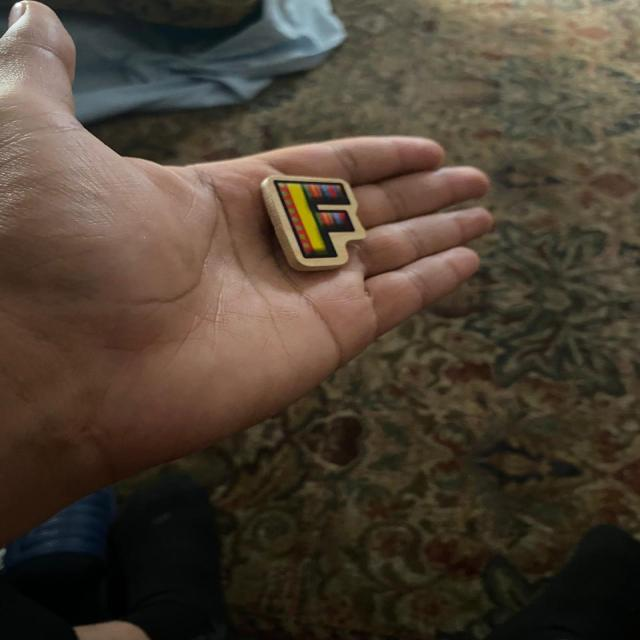F: (261, 175, 365, 271)
